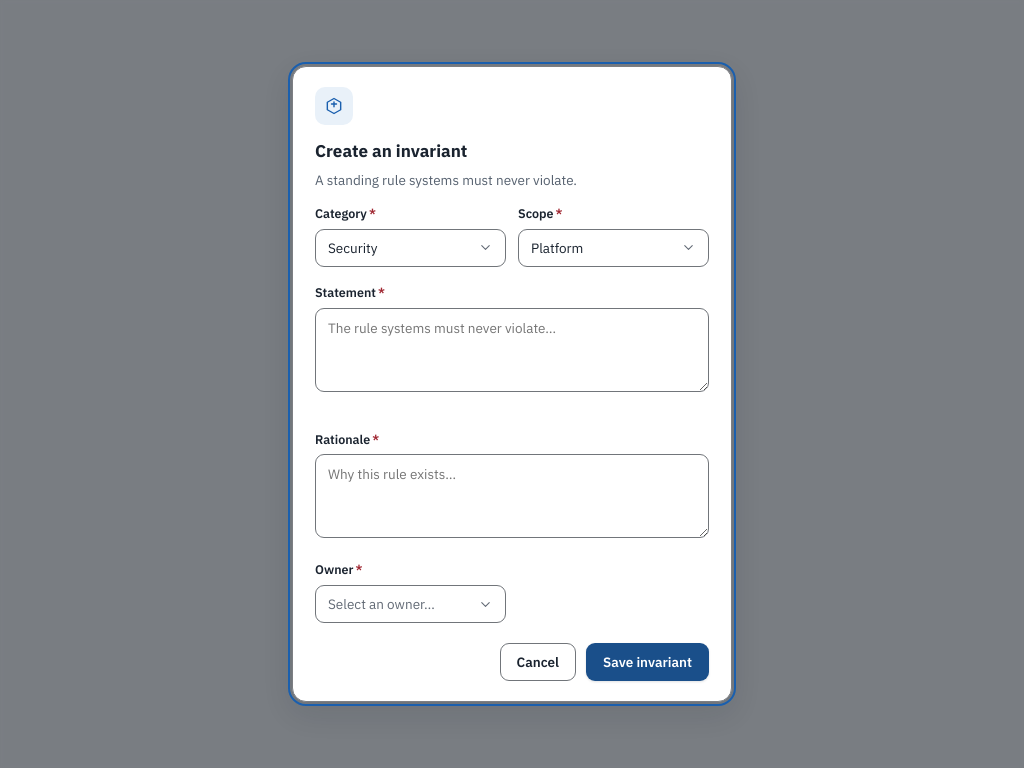
Test: CreateInvariantDialog (P11d) › offers only active members as owners
Click the button "Select an owner…": click(410, 604) [315,585,506,623]
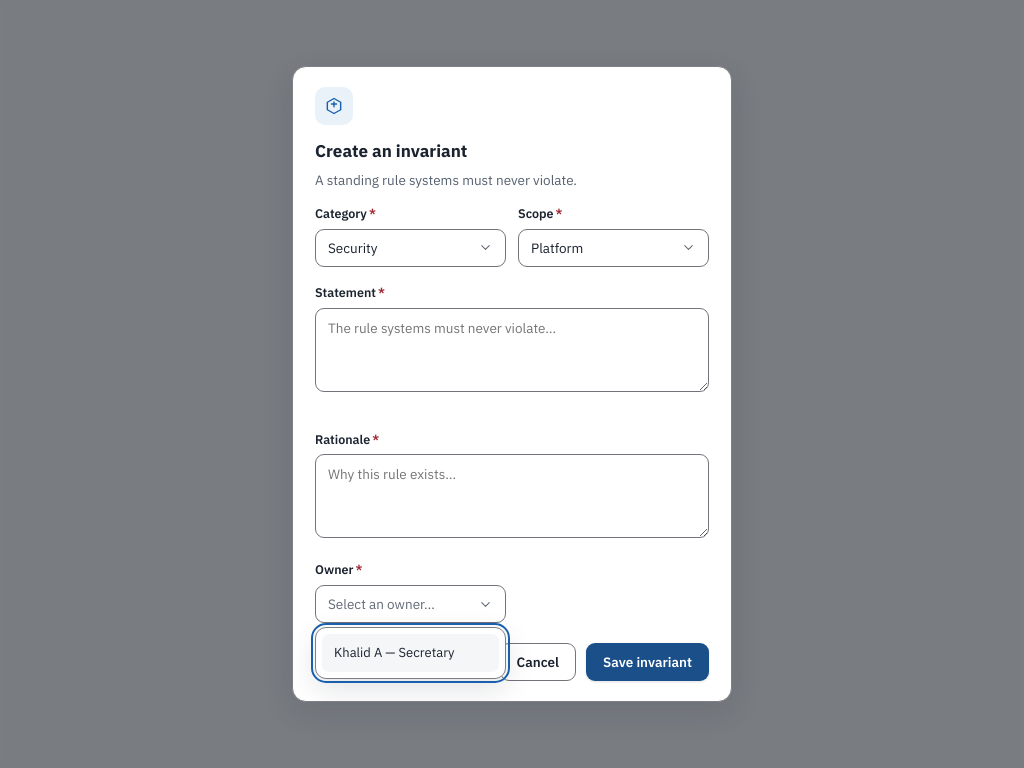
Check: the option "Khalid A — Secretary" is shown, box [322,634,499,672]
